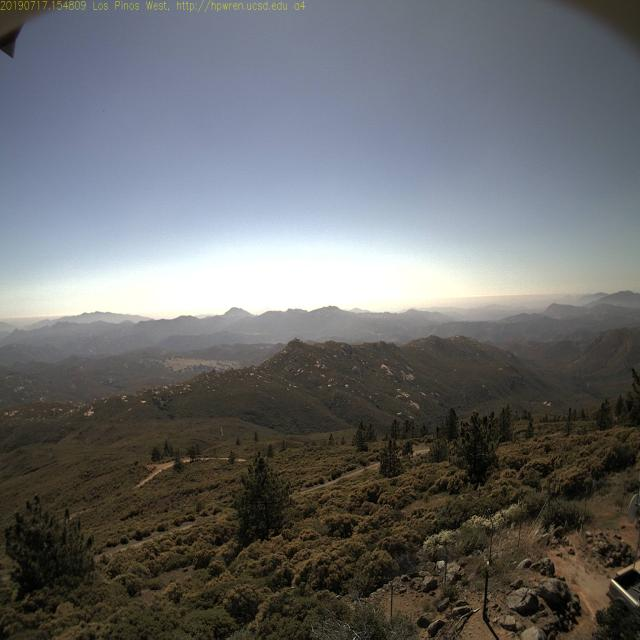smoke: (419, 296, 431, 318)
